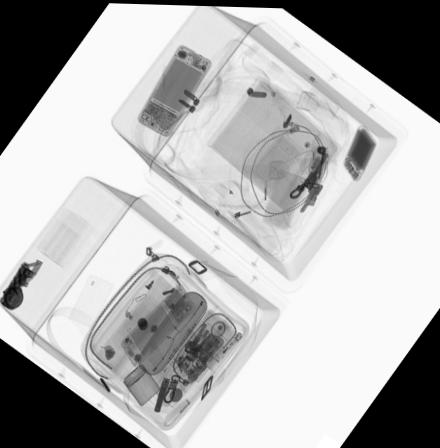Lighter: (206, 328, 244, 370)
